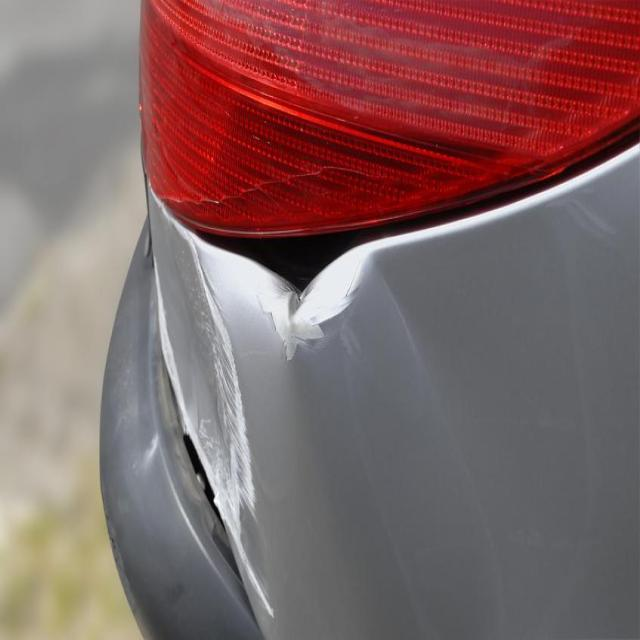dent: (149, 187, 279, 640), (243, 238, 386, 375)
